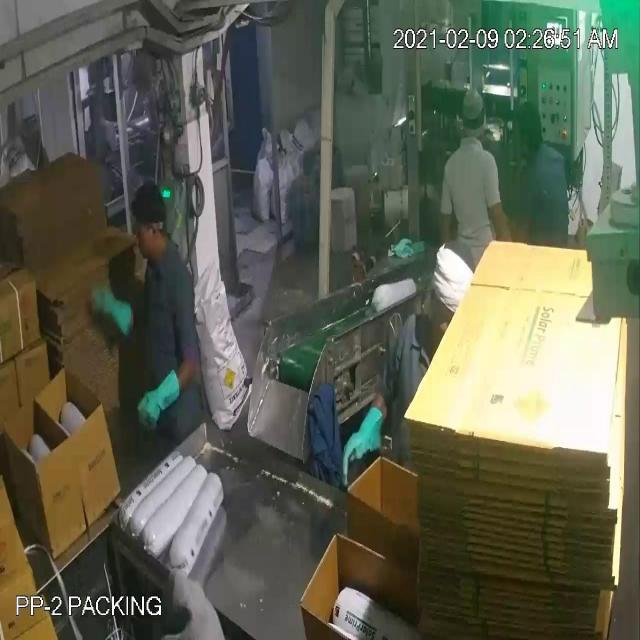Gloves: (50, 68, 364, 444)
